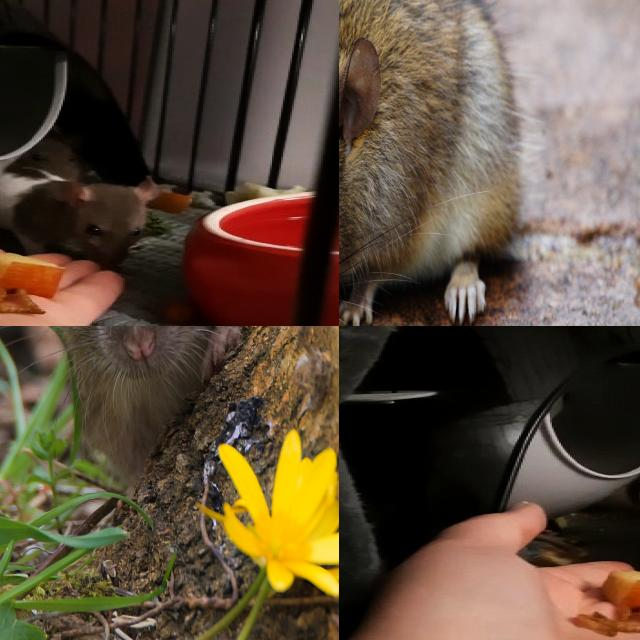rat: (339, 0, 520, 326), (0, 326, 280, 457), (0, 172, 164, 271), (6, 127, 95, 182)
